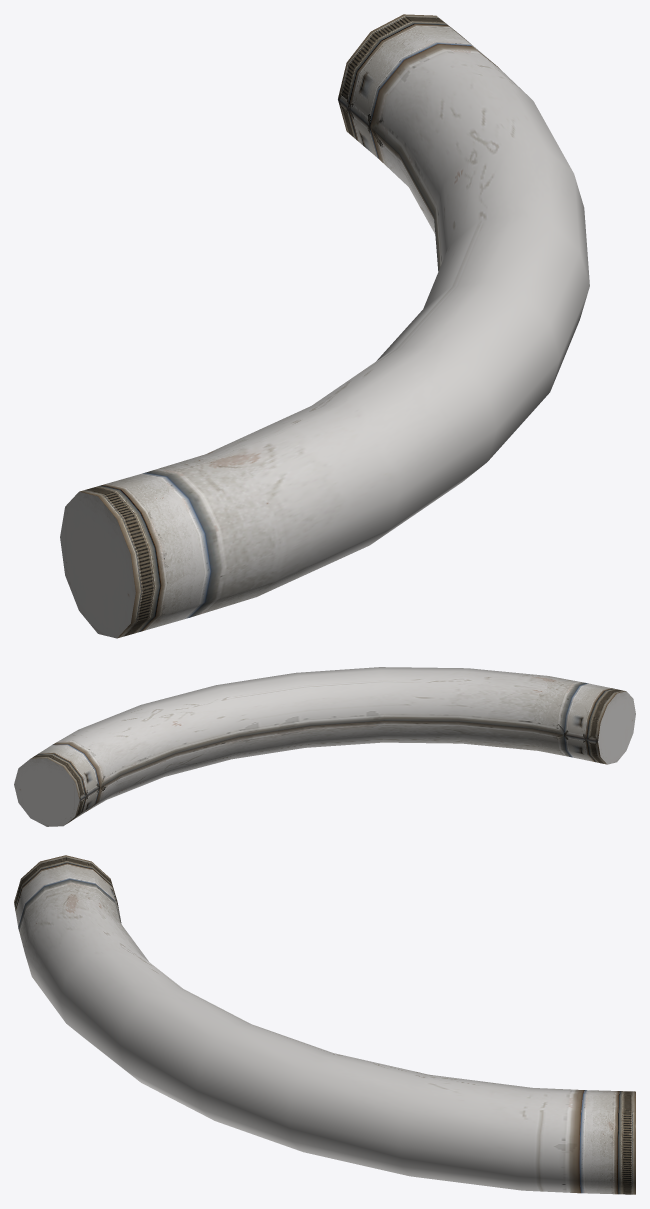
Rendered from scifi_pipe_medium_curve1_2.FBX.
The picture shows the model from 3 angles, top to bottom: view 1: azimuth 30°, elevation 25°; view 2: azimuth 150°, elevation 25°; view 3: azimuth 270°, elevation 25°; orthographic projection. The views are drawn at different scales.
Parts seen in each view (by area): view 1: Cylinder070; view 2: Cylinder070; view 3: Cylinder070.
Part boxes in pixels (bbox=[...]): Cylinder070: bbox=[60, 14, 589, 638]; Cylinder070: bbox=[14, 667, 635, 826]; Cylinder070: bbox=[14, 855, 635, 1194].
Size of the model in its own units: 305 by 50.8 by 305.
